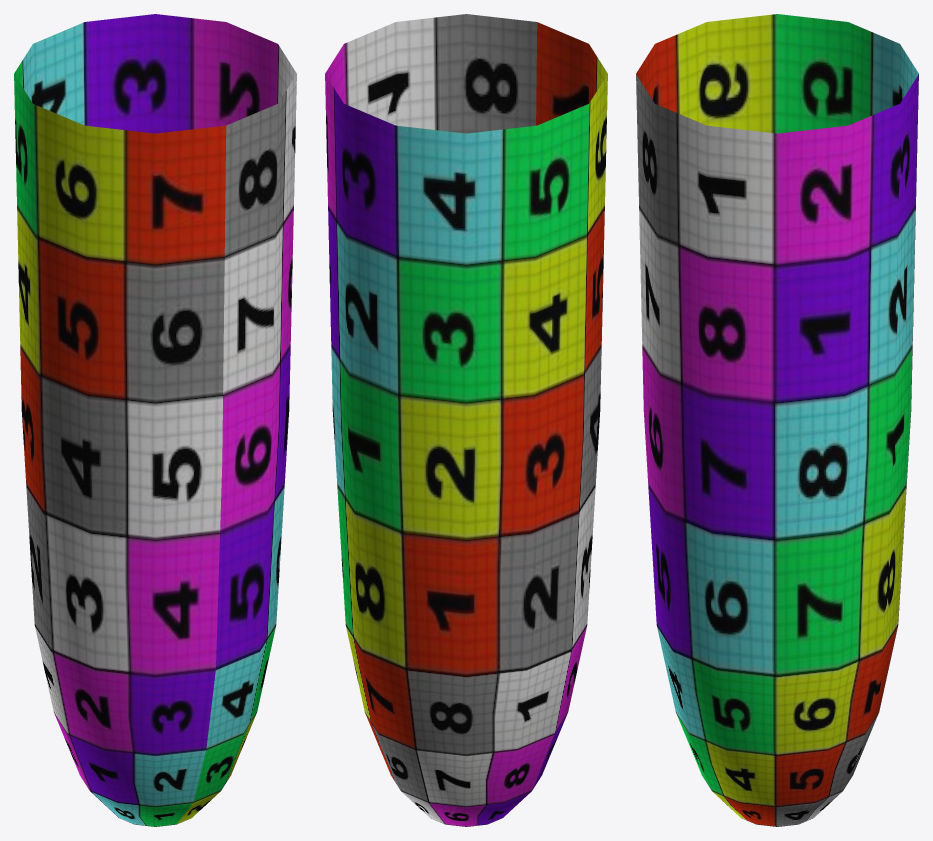
Rendered from Lazer_MEsh.fbx.
3 views of the same model, side by side, from view 1: azimuth 30°, elevation 25°; view 2: azimuth 150°, elevation 25°; view 3: azimuth 270°, elevation 25° (orthographic).
Visible parts, largest first — view 1: Lazer_mesh00; view 2: Lazer_mesh00; view 3: Lazer_mesh00.
Boxes of the visible parts, box(x1,y1,x2,y2) form: Lazer_mesh00: box(14, 14, 296, 826); Lazer_mesh00: box(325, 14, 607, 826); Lazer_mesh00: box(636, 14, 918, 826).
Bounding box in the file's own units: 5.51 × 16.07 × 5.51.
1 material, 1 textured.
